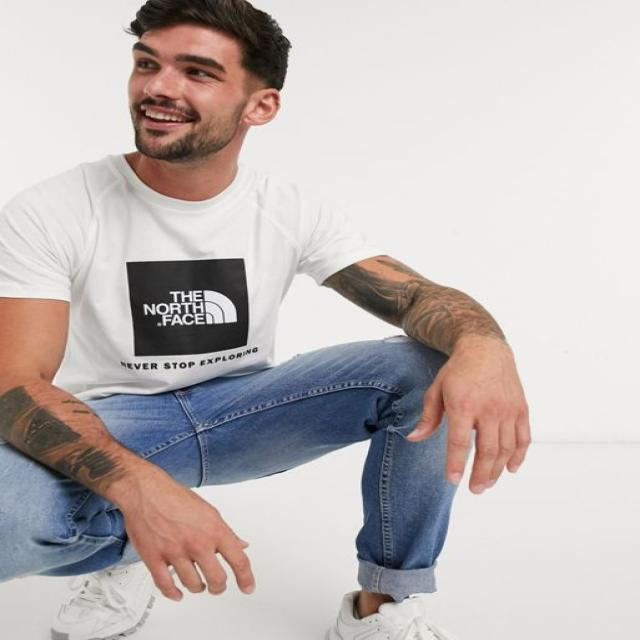tshirt: (0, 150, 384, 402)
